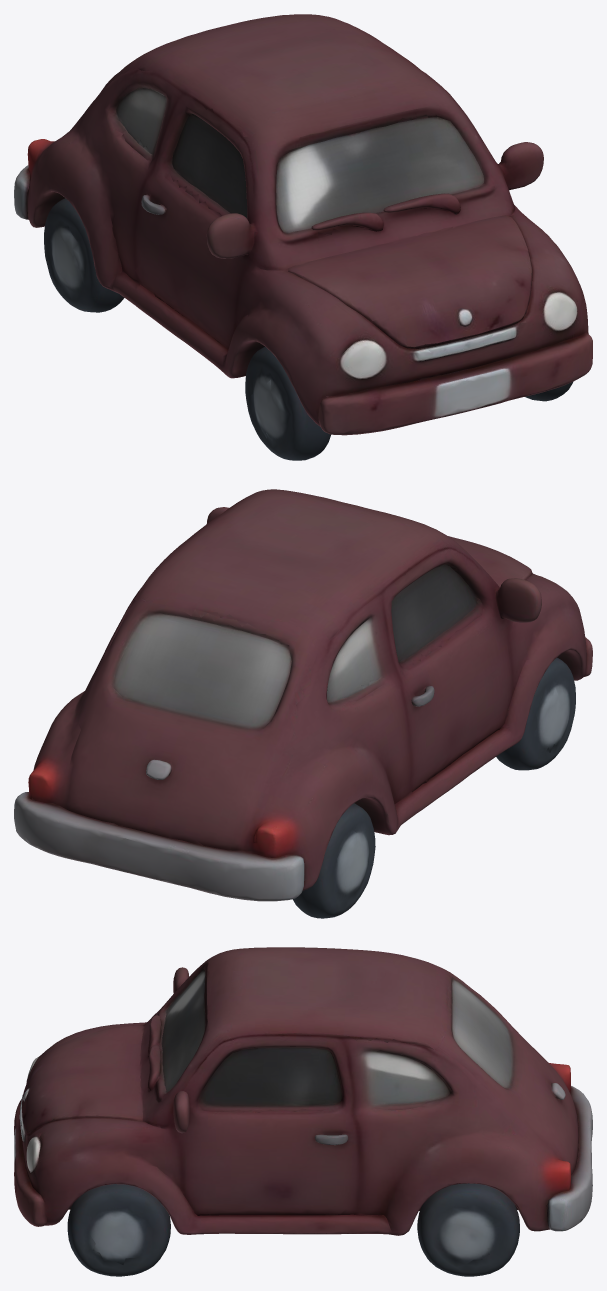
File: car.glb
The picture shows the model from 3 angles, top to bottom: view 1: azimuth 30°, elevation 25°; view 2: azimuth 150°, elevation 25°; view 3: azimuth 270°, elevation 25°; orthographic projection. The views are drawn at different scales.
Visible parts, largest first — view 1: Mesh; view 2: Mesh; view 3: Mesh.
Part boxes in pixels (x1,y1,x2,y2): Mesh: [14, 14, 592, 460]; Mesh: [14, 489, 592, 918]; Mesh: [14, 947, 592, 1276].
Size of the model in its own units: 1.1 by 0.8804 by 1.89.
Materials: 1 (1 with a texture image).
